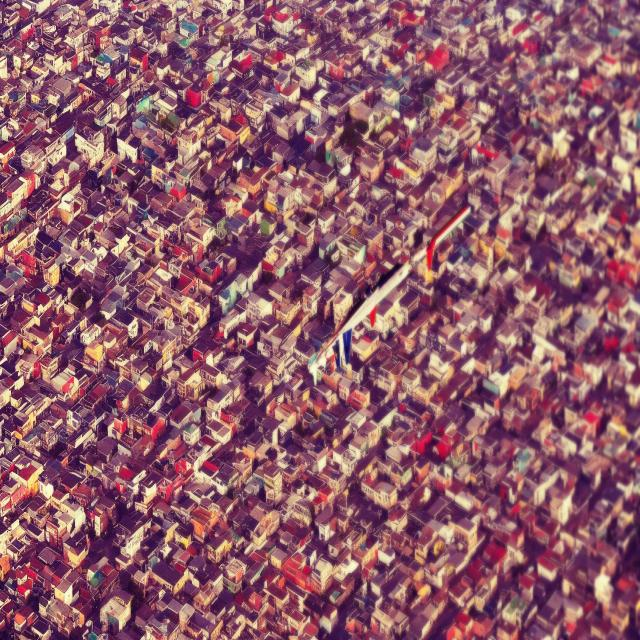airplane: (307, 204, 471, 386)
